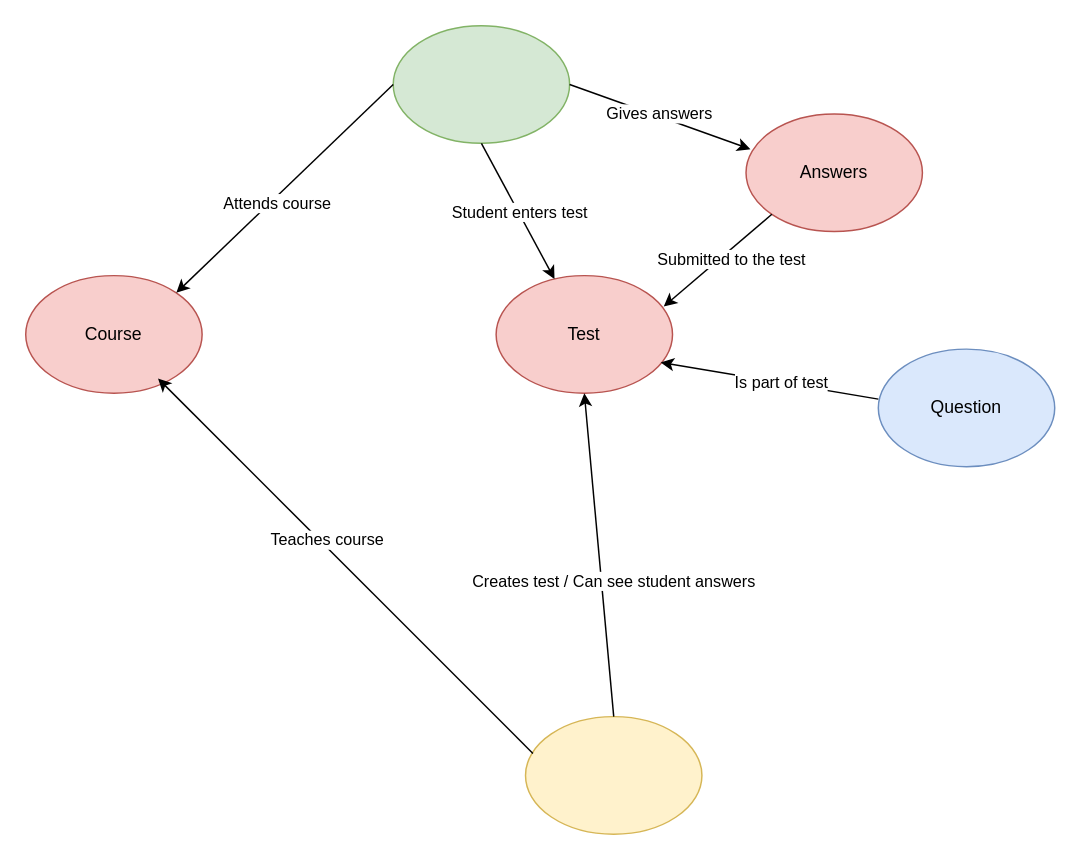
Image size: 1080x860. Some labels were removed from this diagram. The centre of each missing label's shape, as x and y in pixels:
"Professor" belongs at (x=613, y=774).
"Student" belongs at (x=481, y=83).
